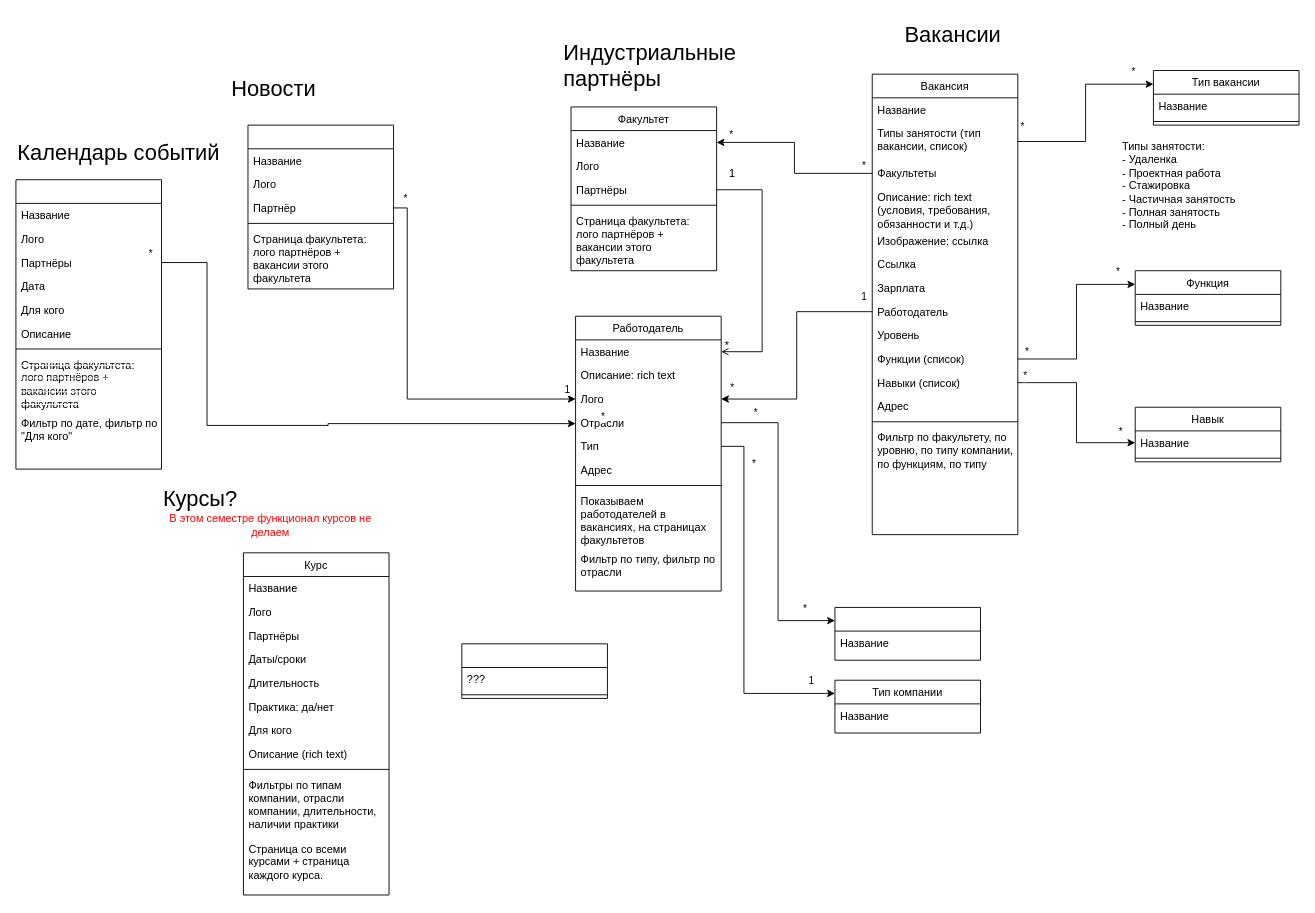
The diagram is 1315 pixels wide and 913 high, and some of its shapes have lost their labels. Here are the shapes that lost their labels. From the top down, the box of each, then its label:
(247, 124, 394, 289): Пост
(15, 179, 162, 469): Мероприятие
(834, 607, 981, 660): Отрасль компании
(461, 643, 607, 698): Пользователь из ЛК
